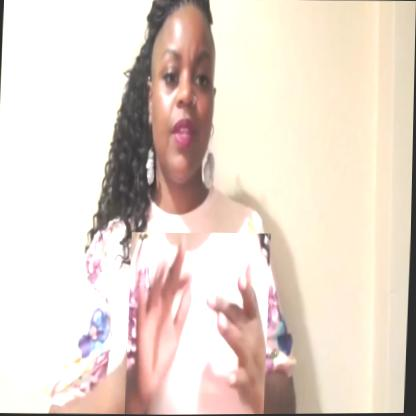Internet: (126, 231, 271, 415)
